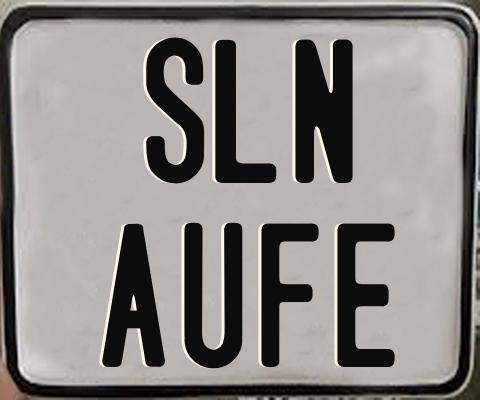A: (100, 221, 168, 369)
E: (334, 223, 398, 367)
F: (260, 223, 318, 371)
L: (214, 39, 277, 187)
N: (294, 37, 354, 181)
S: (143, 34, 201, 186)
U: (183, 221, 245, 368)
